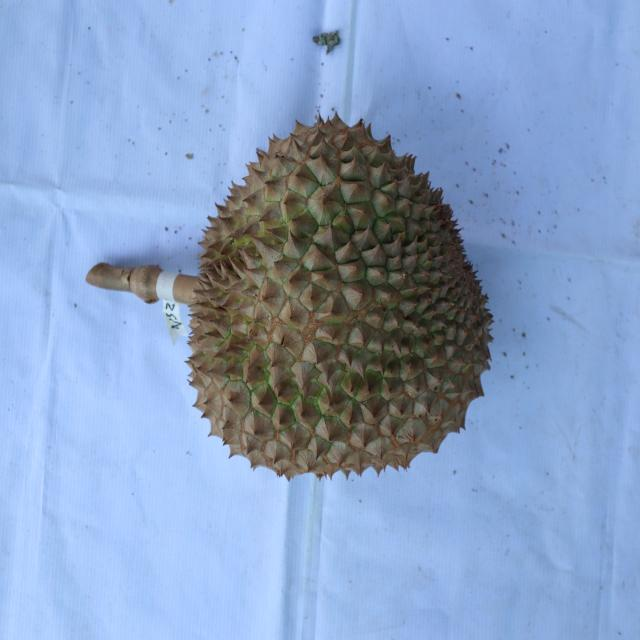mature: (187, 112, 492, 487)
